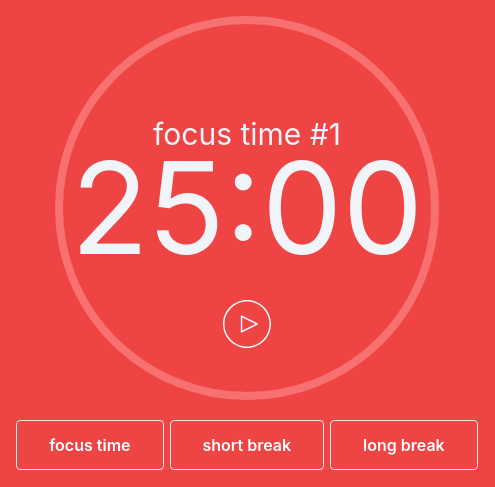
Test: Navigation › should start timer if Play button clicked
Expected: the text "25:00" is shown, [71, 144, 423, 272]
Click the button named "Play timer". click: {"x": 247, "y": 324}
box: [223, 300, 271, 348]
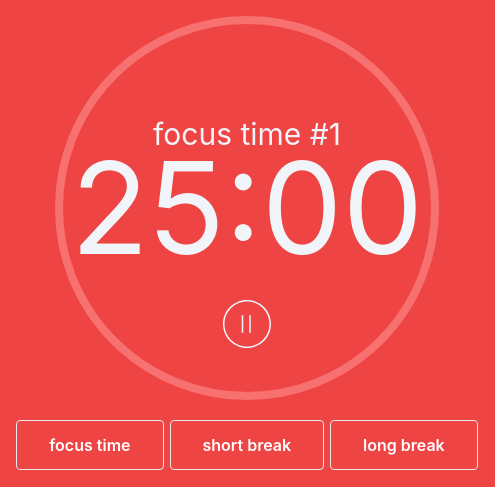
Wait "60000"
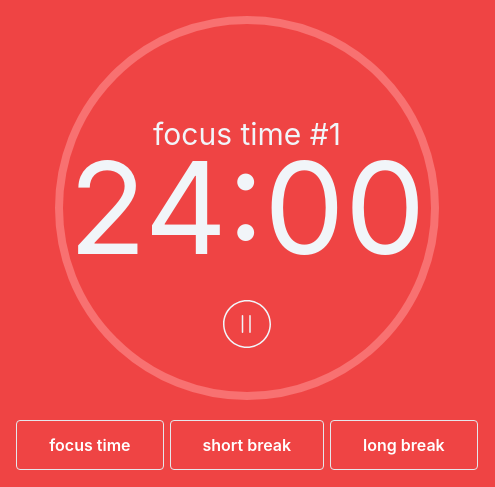
Expected: the text "24:00" is shown, [68, 144, 426, 272]
